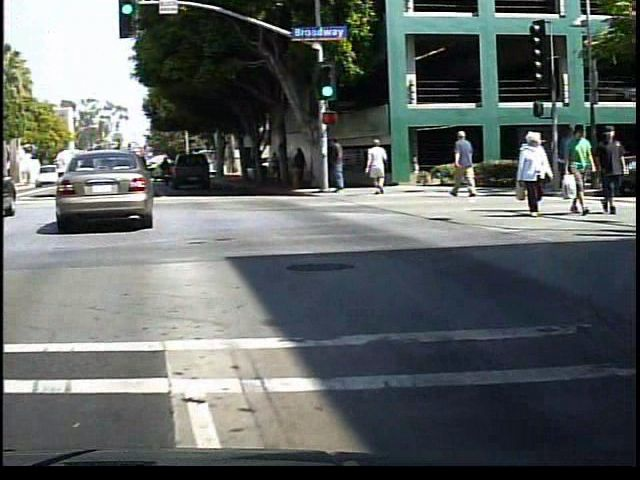person: (515, 131, 559, 217), (564, 123, 597, 217), (599, 123, 629, 216), (453, 128, 485, 197), (370, 138, 396, 198), (332, 134, 354, 200), (297, 144, 316, 191), (275, 150, 293, 189)
